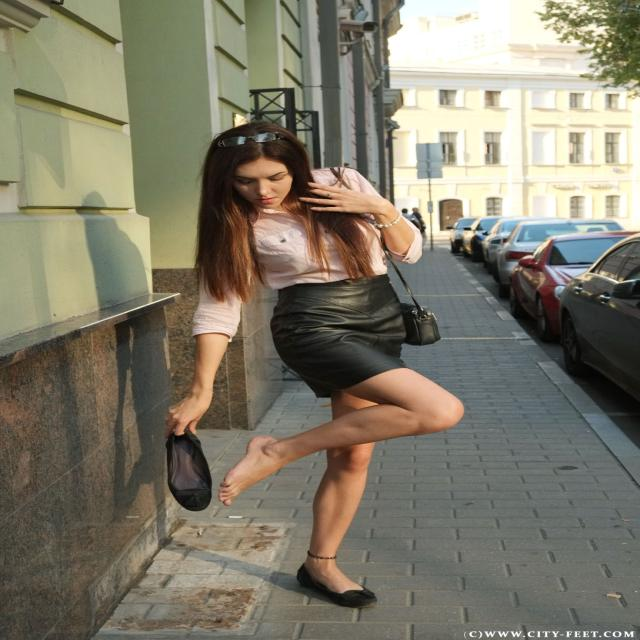No Safety Boots: (218, 436, 274, 506)
